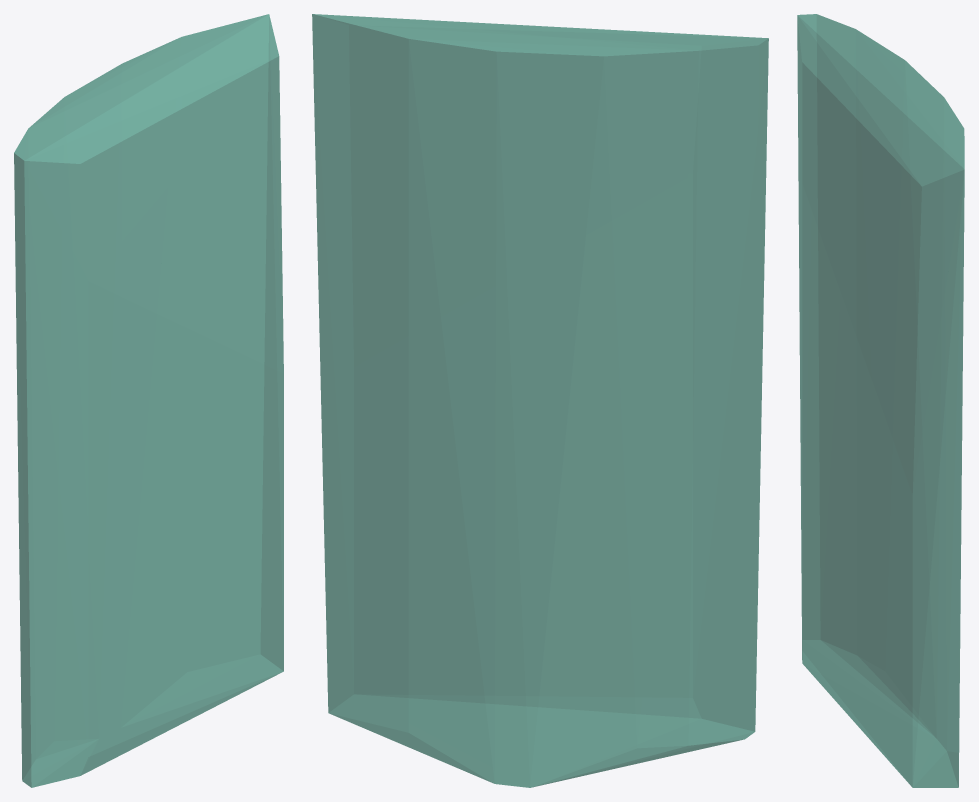
3 views of the same model, side by side, from view 1: azimuth 30°, elevation 25°; view 2: azimuth 150°, elevation 25°; view 3: azimuth 270°, elevation 25° (orthographic). The views are drawn at different scales.
Parts seen in each view (by area): view 1: Shape_IndexedFaceSet.033_Shape_IndexedFaceSet.10668; view 2: Shape_IndexedFaceSet.033_Shape_IndexedFaceSet.10668; view 3: Shape_IndexedFaceSet.033_Shape_IndexedFaceSet.10668.
Part boxes in pixels (x1,y1,x2,y2): Shape_IndexedFaceSet.033_Shape_IndexedFaceSet.10668: (14, 14, 283, 787); Shape_IndexedFaceSet.033_Shape_IndexedFaceSet.10668: (312, 14, 768, 787); Shape_IndexedFaceSet.033_Shape_IndexedFaceSet.10668: (797, 14, 964, 787).
Size of the model in its own units: 0.101 by 0.1954 by 0.0451.
